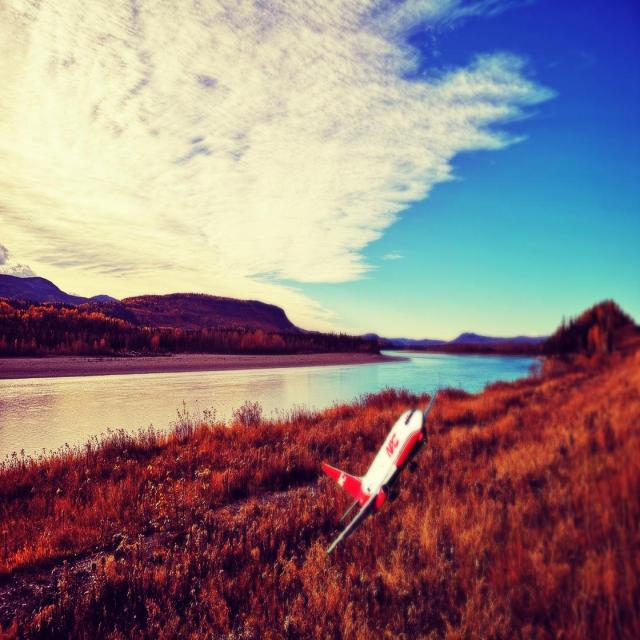airplane: (321, 388, 439, 555)
